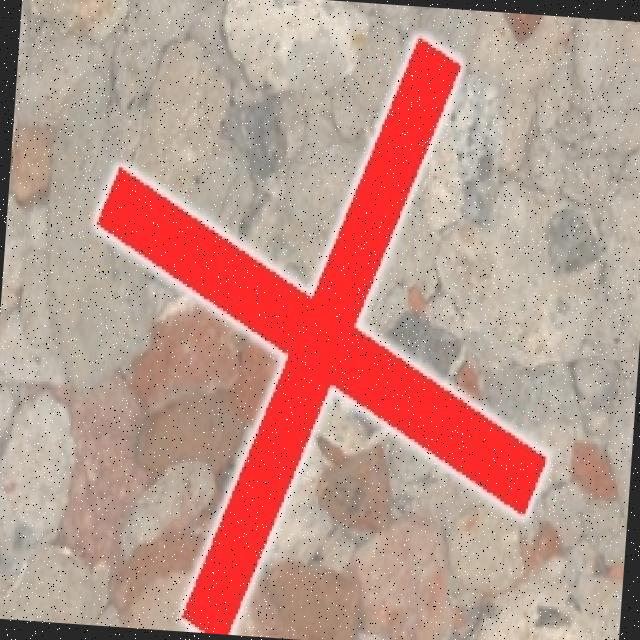x_marker: (67, 15, 574, 640)
